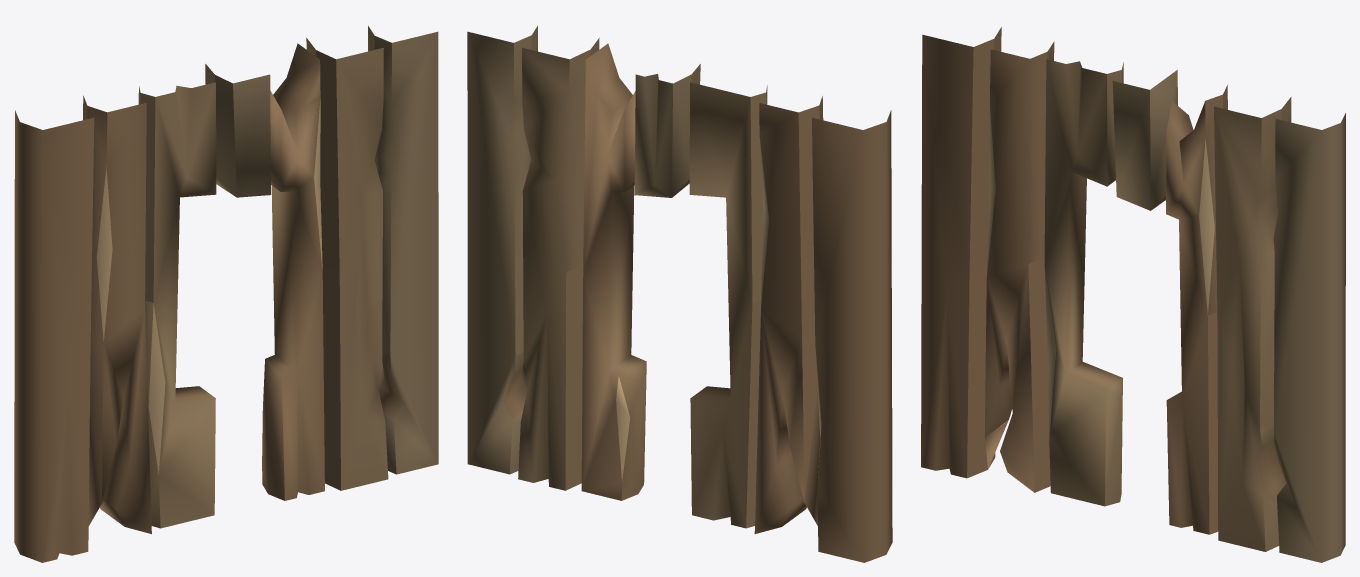
File: rpgpp_av_wall_02_3x3_window_03a.gltf
The picture shows the model from 3 angles, left to right: view 1: azimuth 30°, elevation 25°; view 2: azimuth 150°, elevation 25°; view 3: azimuth 330°, elevation 25°; orthographic projection.
Visible parts, largest first — view 1: rpgpp_av_wall_02_3x3_window_03a; view 2: rpgpp_av_wall_02_3x3_window_03a; view 3: rpgpp_av_wall_02_3x3_window_03a.
Part boxes in pixels (x1=…): rpgpp_av_wall_02_3x3_window_03a: x1=14, y1=26, x2=438, y2=562; rpgpp_av_wall_02_3x3_window_03a: x1=467, y1=25, x2=892, y2=562; rpgpp_av_wall_02_3x3_window_03a: x1=921, y1=27, x2=1345, y2=562.
Size of the model in its own units: 0.03 by 0.03 by 0.00378.
1 material, 1 textured.
